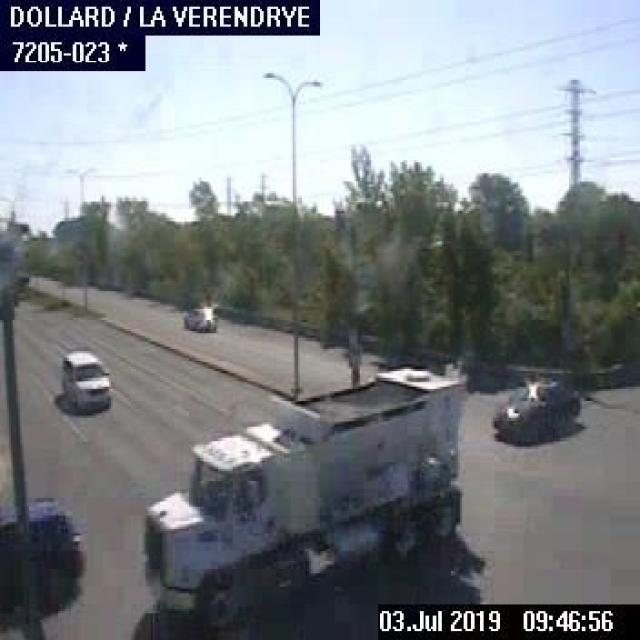vehicle: (140, 364, 484, 626), (0, 495, 87, 622), (489, 380, 580, 442), (58, 347, 113, 411), (182, 302, 214, 329)
